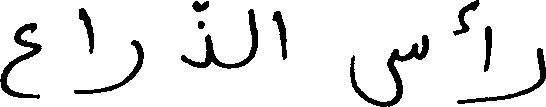X: (350, 30, 426, 106), (454, 0, 490, 106), (492, 43, 545, 105), (0, 18, 38, 103), (107, 35, 142, 95), (183, 0, 212, 72), (80, 3, 91, 98), (275, 6, 285, 64), (250, 4, 256, 65)
